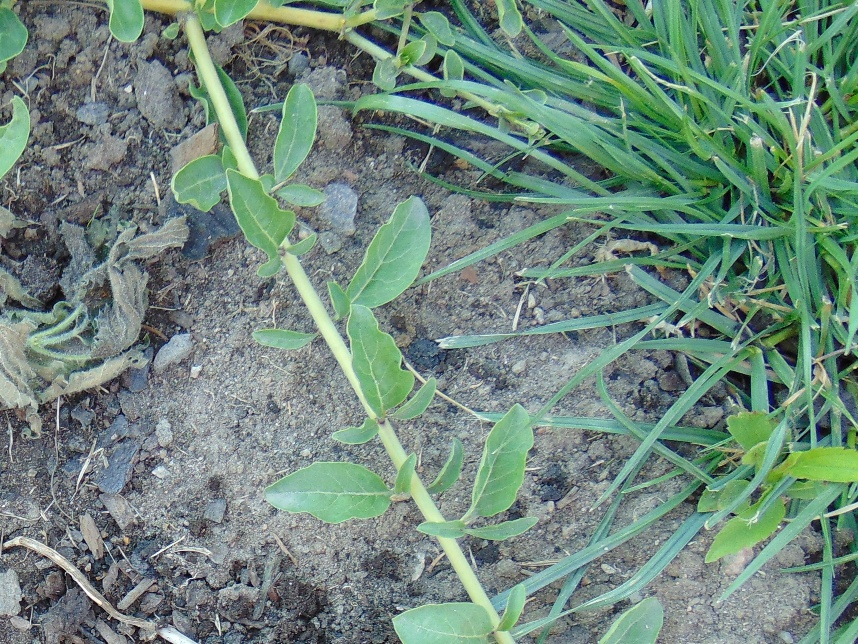weed: (549, 3, 858, 406), (254, 192, 445, 447), (259, 400, 544, 553), (164, 51, 331, 267), (334, 1, 540, 141), (699, 410, 858, 565), (391, 575, 667, 644), (1, 1, 40, 192), (101, 1, 263, 43)
